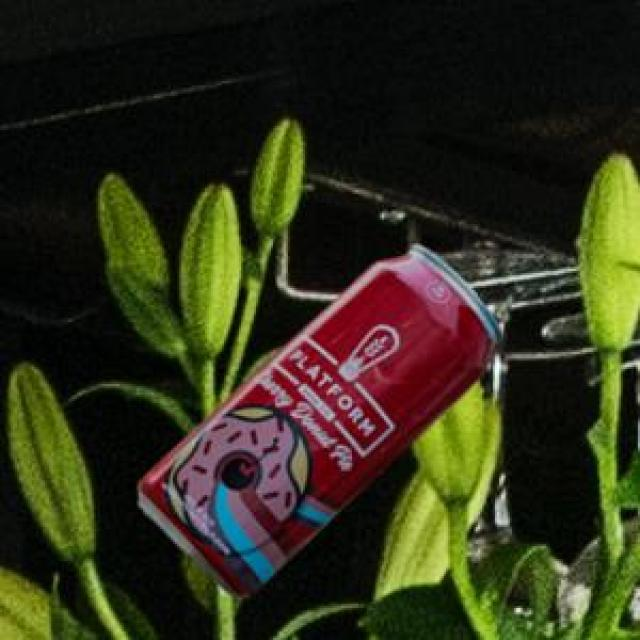Can: (135, 242, 498, 594)
